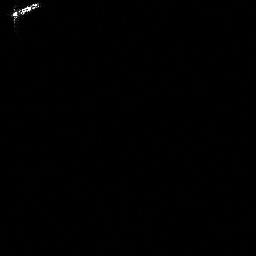ship: (12, 2, 40, 17)
